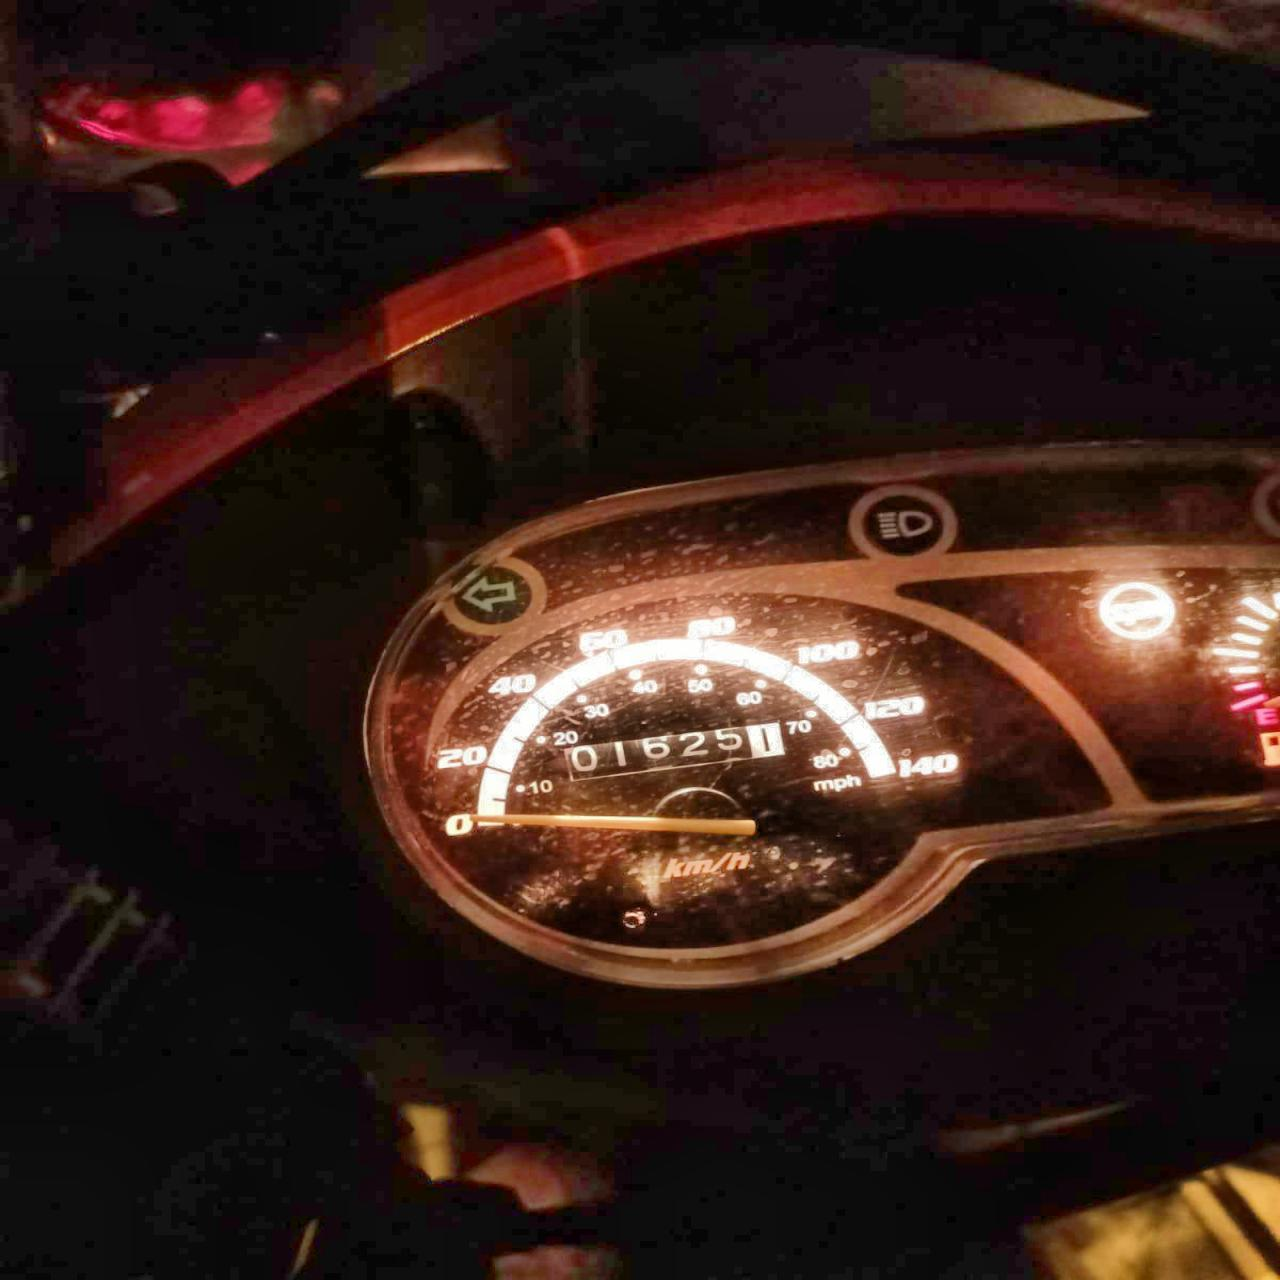0: (570, 744, 600, 773), (566, 726, 580, 742)
1: (753, 722, 779, 763), (606, 736, 630, 773)
2: (676, 730, 707, 760), (553, 730, 564, 746)
5: (710, 720, 748, 753)
6: (638, 731, 672, 765)
odometer: (550, 718, 790, 781)
